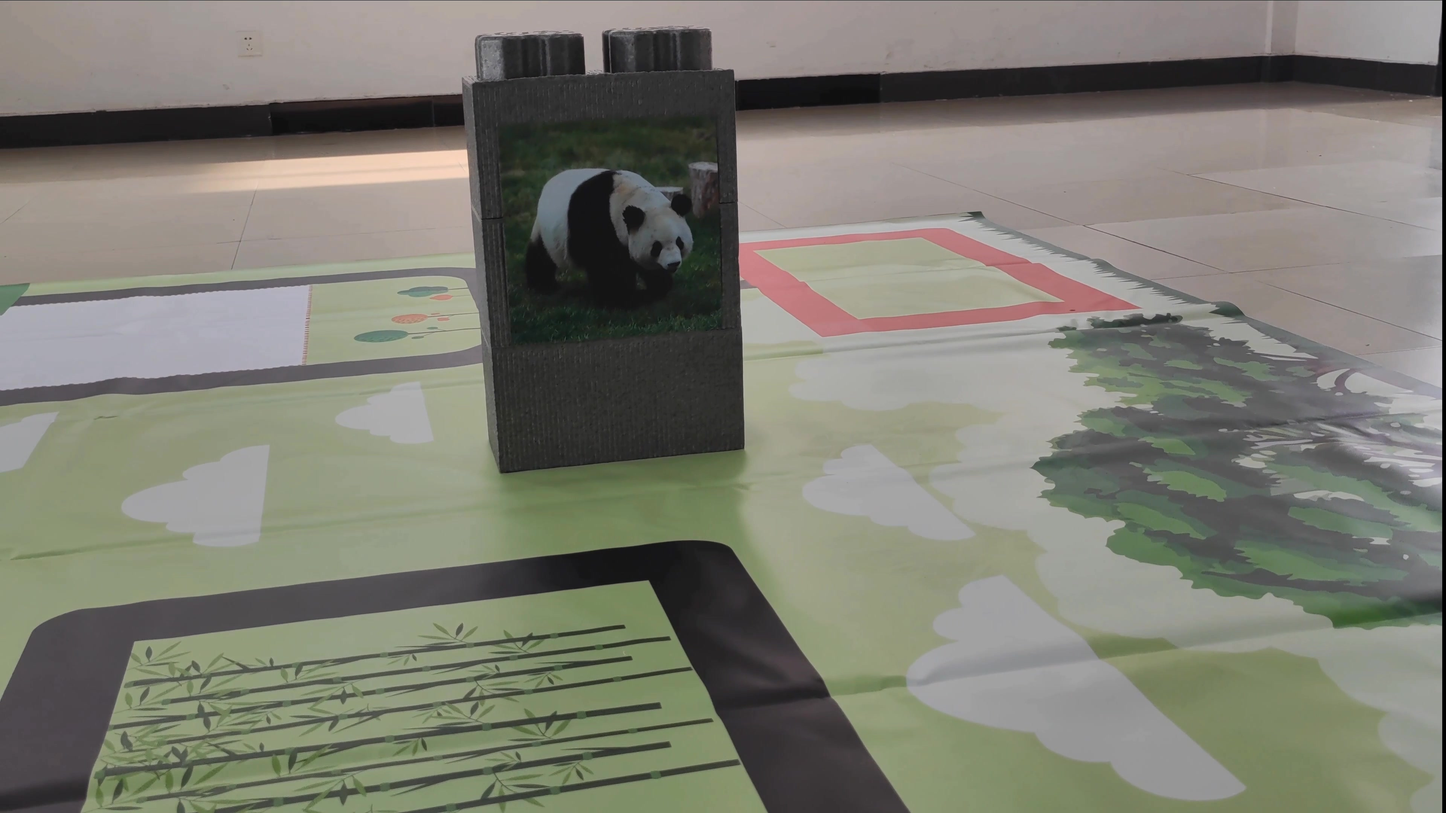panda: (512, 134, 709, 318)
